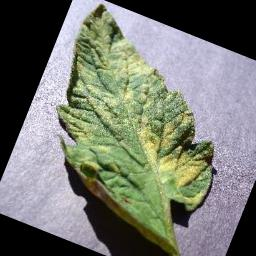Leaf_Mold: (115, 91, 235, 212)
